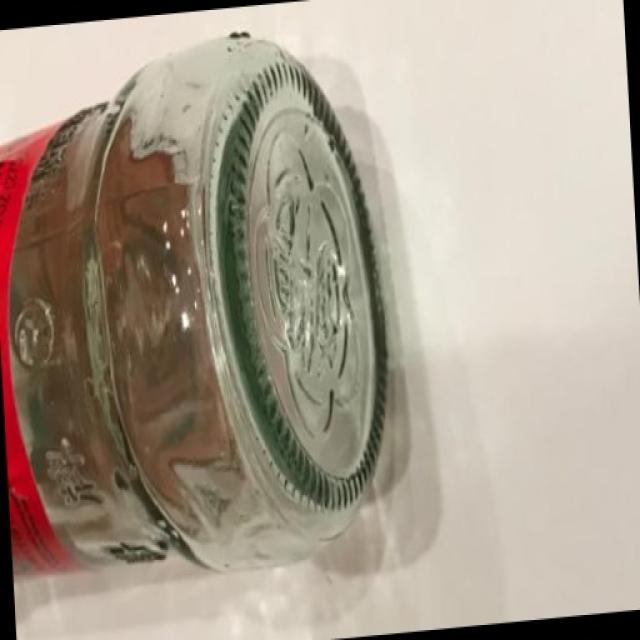vidrio: (0, 26, 479, 587)
